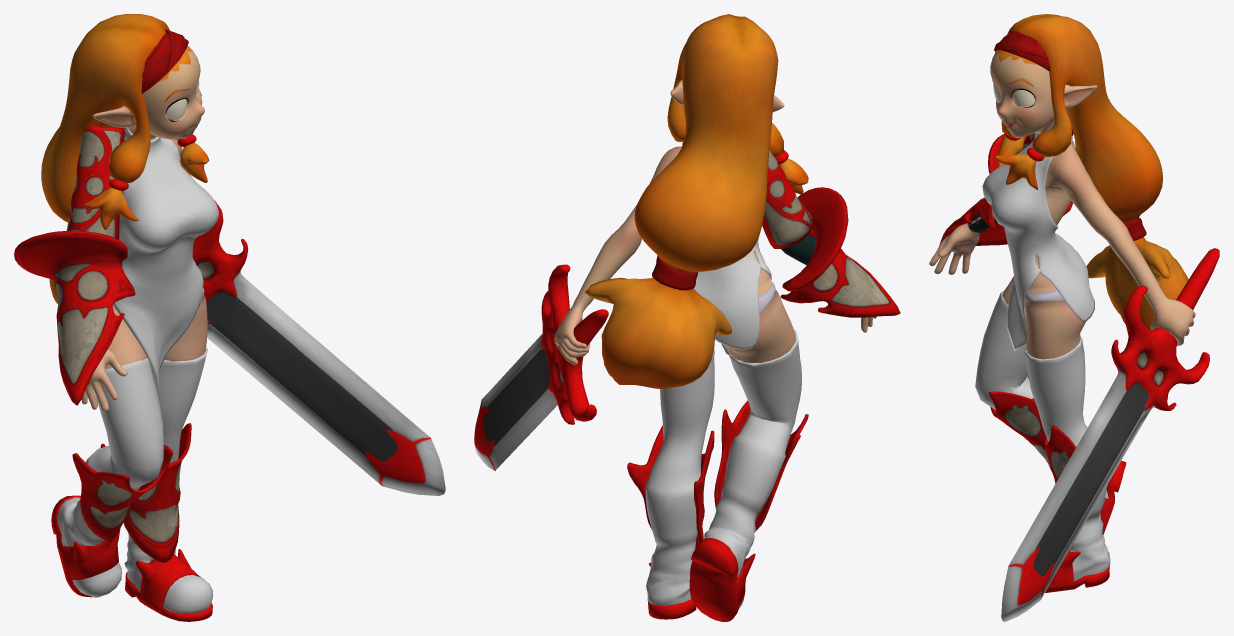
3 views of the same model, side by side, from view 1: azimuth 30°, elevation 25°; view 2: azimuth 150°, elevation 25°; view 3: azimuth 270°, elevation 25° (orthographic). The views are drawn at different scales.
Parts seen in each view (by area): view 1: IOP_Acessories, IOP_Cloth, IOP_Sword, IOP_Hair, IOP_Head, IOP_Body; view 2: IOP_Hair, IOP_Cloth, IOP_Acessories, IOP_Sword, IOP_Body; view 3: IOP_Cloth, IOP_Hair, IOP_Sword, IOP_Body, IOP_Acessories, IOP_Head, IOP_Eyes.
Boxes of the visible parts, left/top/right/bottom form: IOP_Acessories: left=14, top=29, right=212, bottom=621; IOP_Cloth: left=57, top=127, right=218, bottom=613; IOP_Sword: left=192, top=200, right=445, bottom=495; IOP_Hair: left=41, top=14, right=209, bottom=304; IOP_Head: left=92, top=45, right=204, bottom=139; IOP_Body: left=81, top=139, right=207, bottom=411; IOP_Hair: left=584, top=14, right=808, bottom=388; IOP_Cloth: left=645, top=238, right=801, bottom=608; IOP_Acessories: left=627, top=24, right=900, bottom=621; IOP_Sword: left=474, top=264, right=608, bottom=470; IOP_Body: left=554, top=146, right=876, bottom=365; IOP_Cloth: left=975, top=132, right=1110, bottom=581; IOP_Hair: left=995, top=14, right=1188, bottom=330; IOP_Sword: left=1001, top=248, right=1219, bottom=621; IOP_Body: left=929, top=140, right=1195, bottom=359; IOP_Acessories: left=939, top=31, right=1126, bottom=592; IOP_Head: left=990, top=50, right=1097, bottom=138; IOP_Eyes: left=993, top=83, right=1034, bottom=106.
Size of the model in its own units: 44.1 by 62.7 by 30.29.
